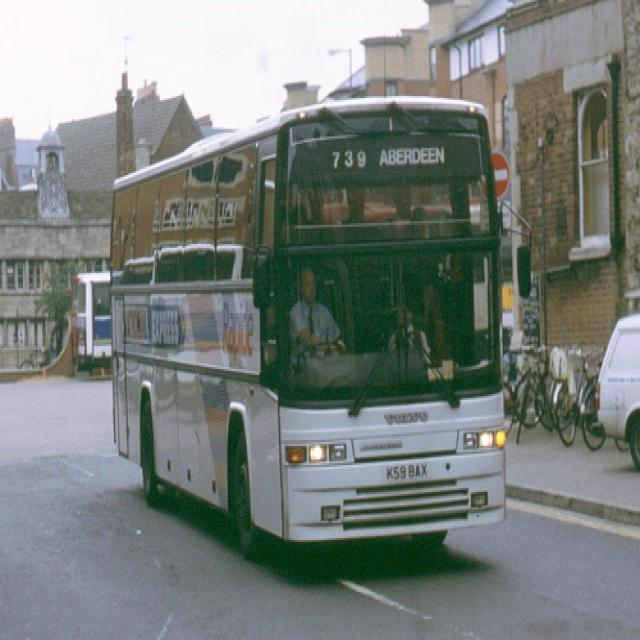light_vehicle: (594, 304, 639, 474)
